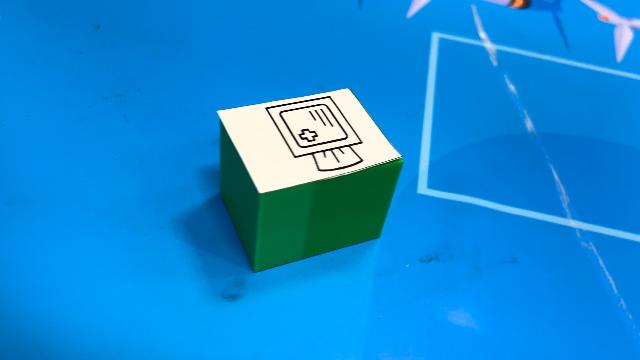napkin: (215, 86, 405, 274)
